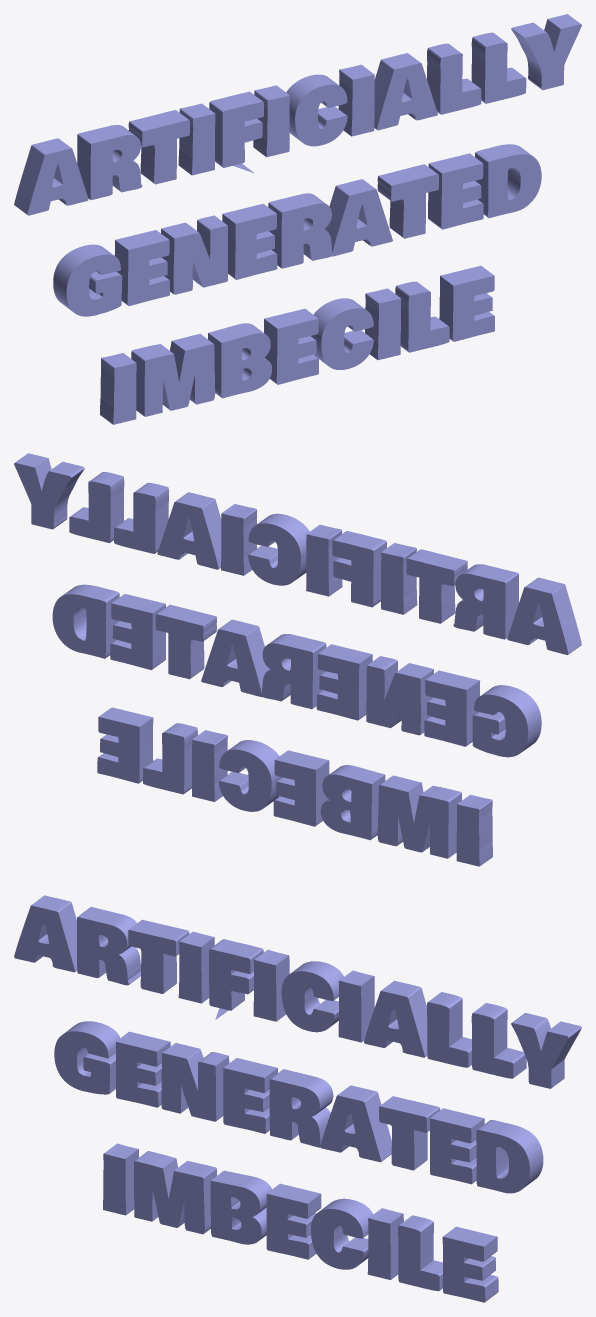
The model's file is cryptizo.glb.
3 renders of one model, top to bottom at view 1: azimuth 30°, elevation 25°; view 2: azimuth 150°, elevation 25°; view 3: azimuth 330°, elevation 25°, orthographic.
Parts seen in each view (by area): view 1: Text; view 2: Text; view 3: Text.
Boxes of the visible parts, x1=… form: Text: x1=14, y1=14, x2=581, y2=424; Text: x1=14, y1=453, x2=581, y2=866; Text: x1=14, y1=895, x2=581, y2=1302.
Size of the model in its own units: 5.01 by 2.52 by 0.4434.
